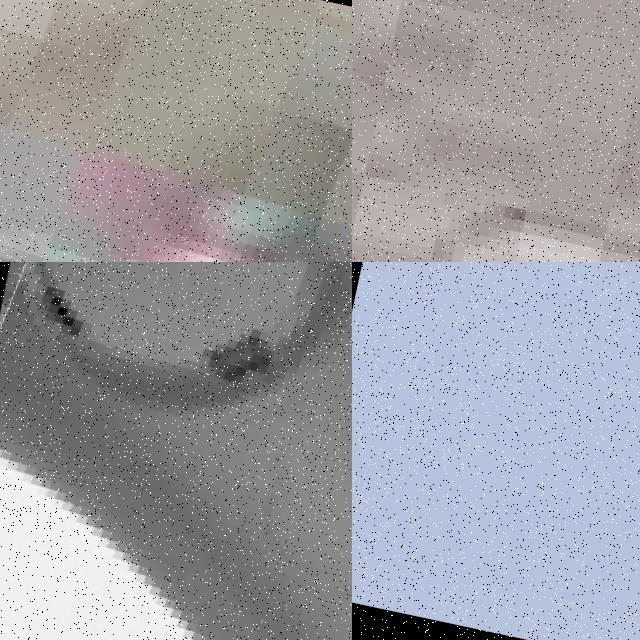0: (0, 0, 352, 262)
drone: (0, 262, 352, 640)
